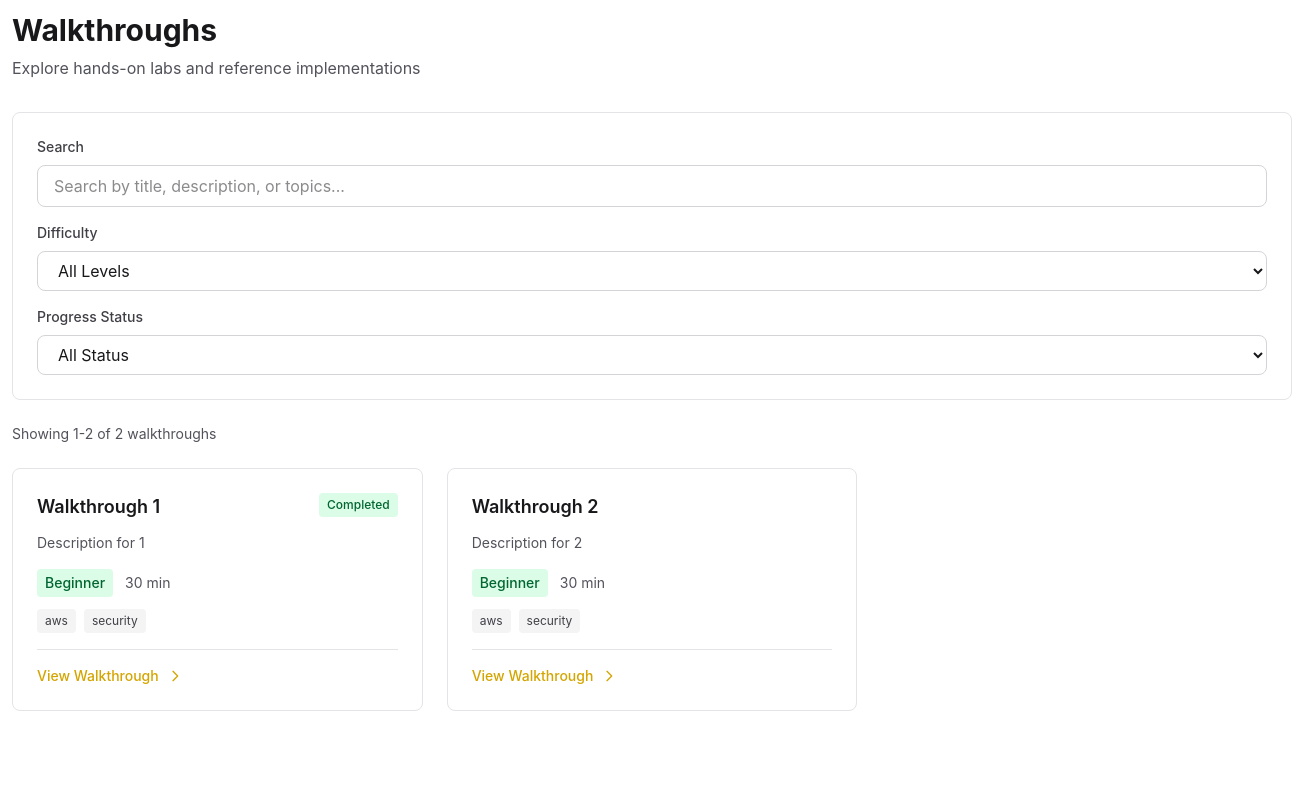
filters by progress status
Select "Completed" in the dropdown named "Filter by progress status" at (652, 355), box 37,335 -> 1267,375
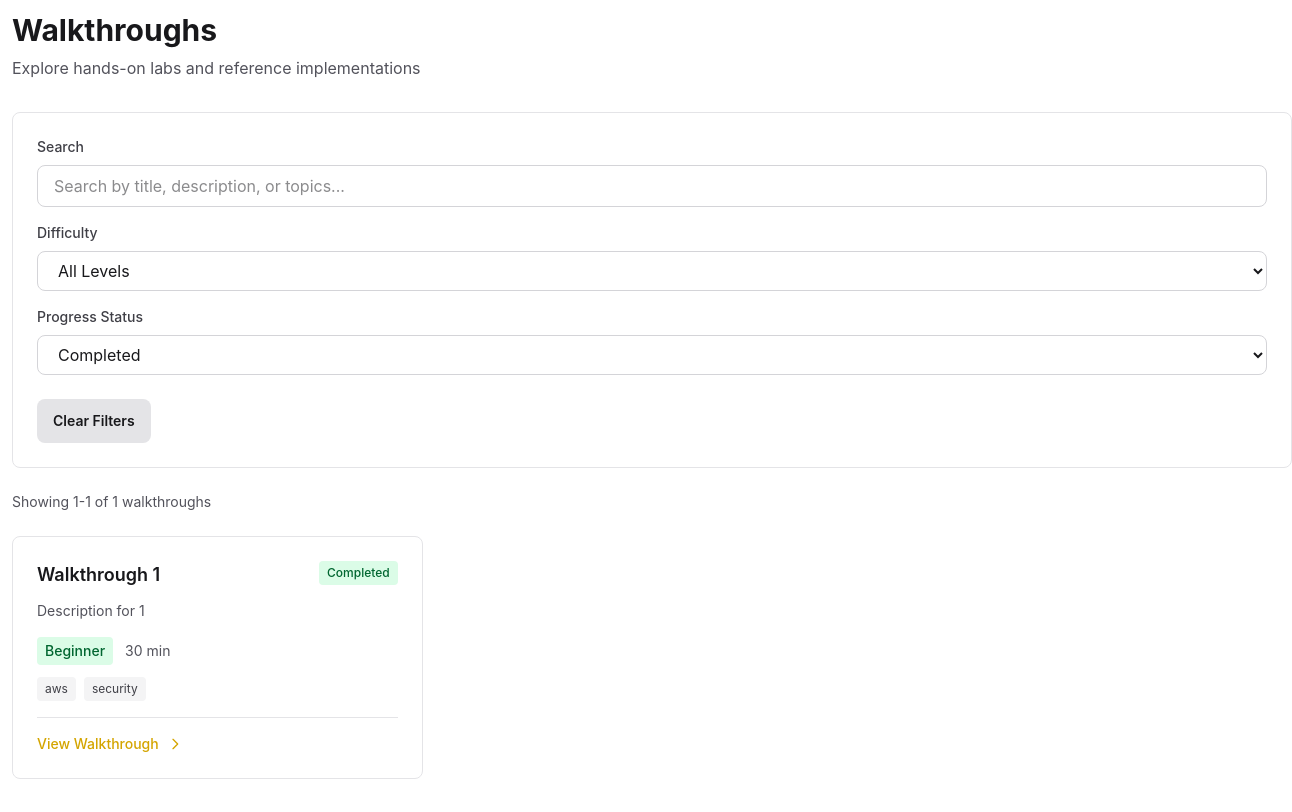
Expected: the heading "Walkthrough 1" is shown, 37,564 -> 160,585
Expected: the link "Walkthrough 2" is gone
